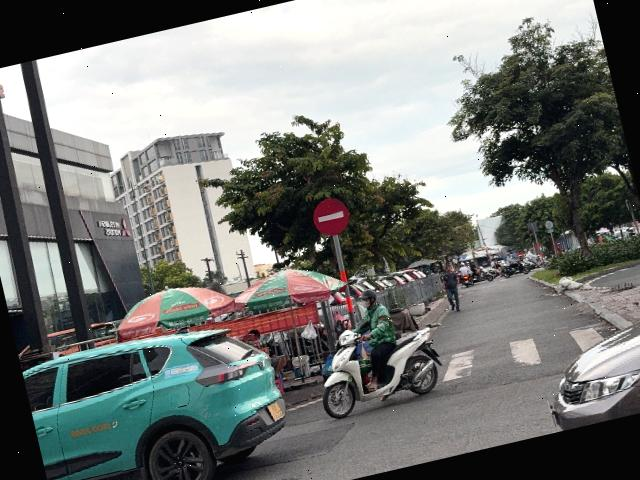cam-di-nguoc-chieu: (310, 194, 352, 240)
